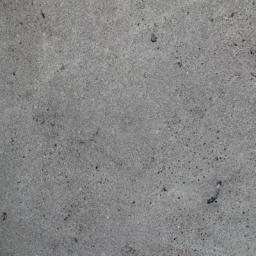FOD: (208, 180, 225, 209)
